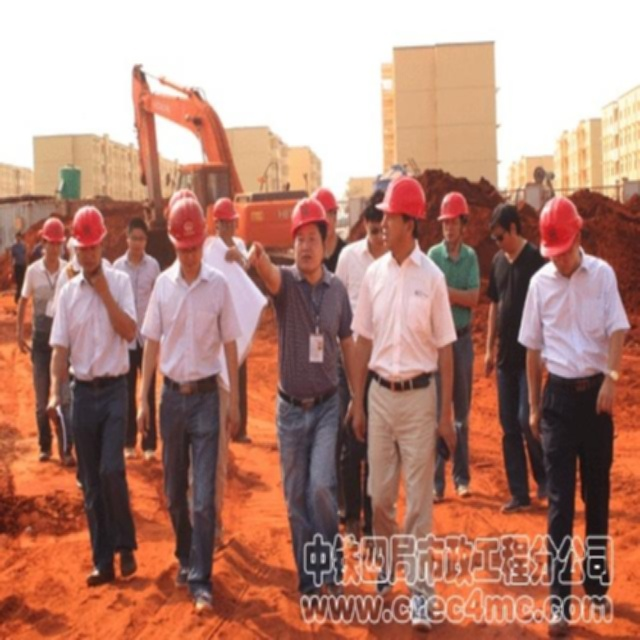Con_Casco: (364, 252, 446, 382), (151, 264, 229, 379)
Sin_Casco_Mascarrilla: (69, 205, 107, 269), (126, 217, 148, 258)
